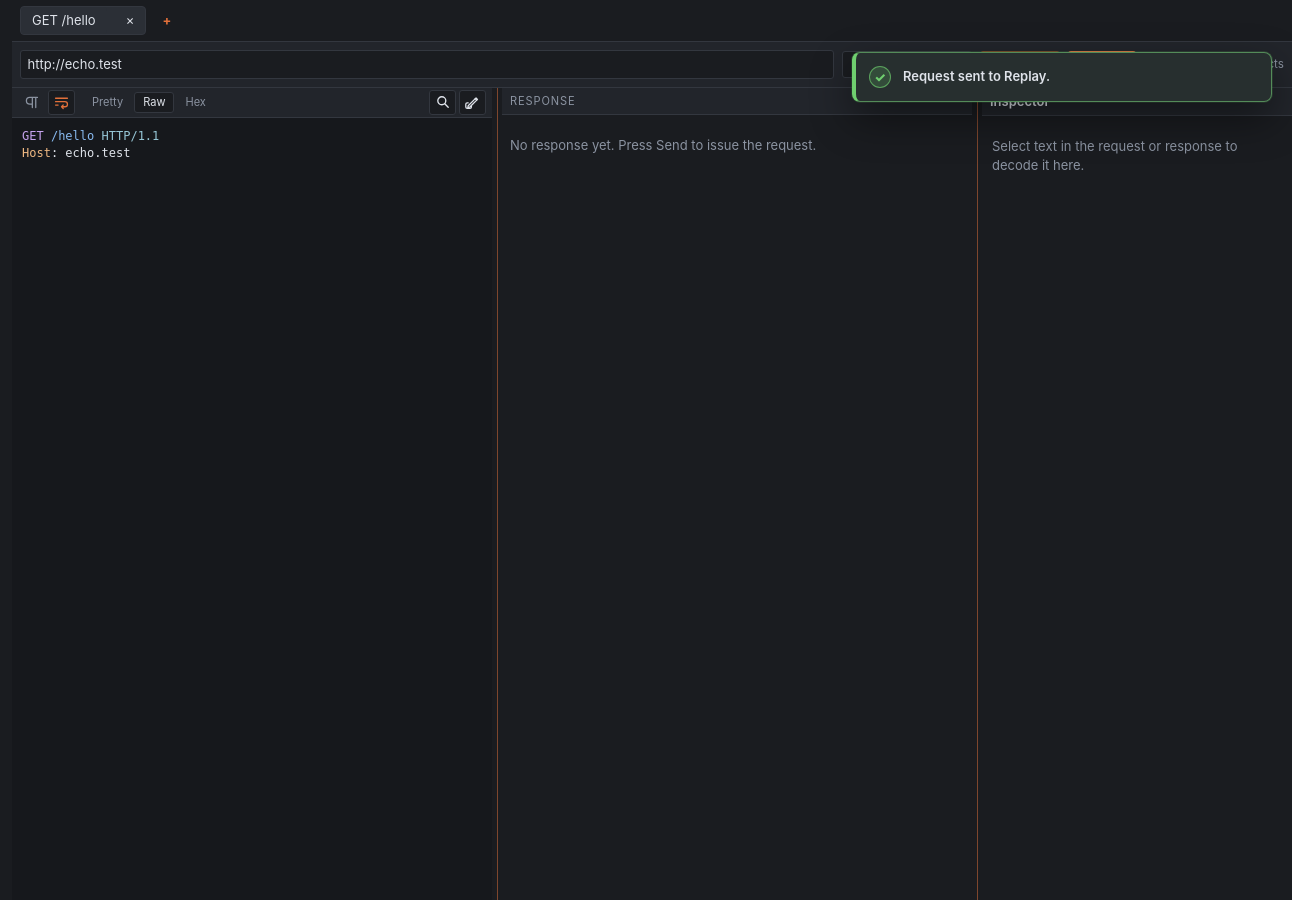
Test case: ReplayTab › stops automatic following on a redirect loop
The image size is (1292, 900).
Expected: the text box named "request" is shown, [12, 118, 492, 899]
Click the button "Send": [1102, 65] box [1068, 50, 1136, 79]
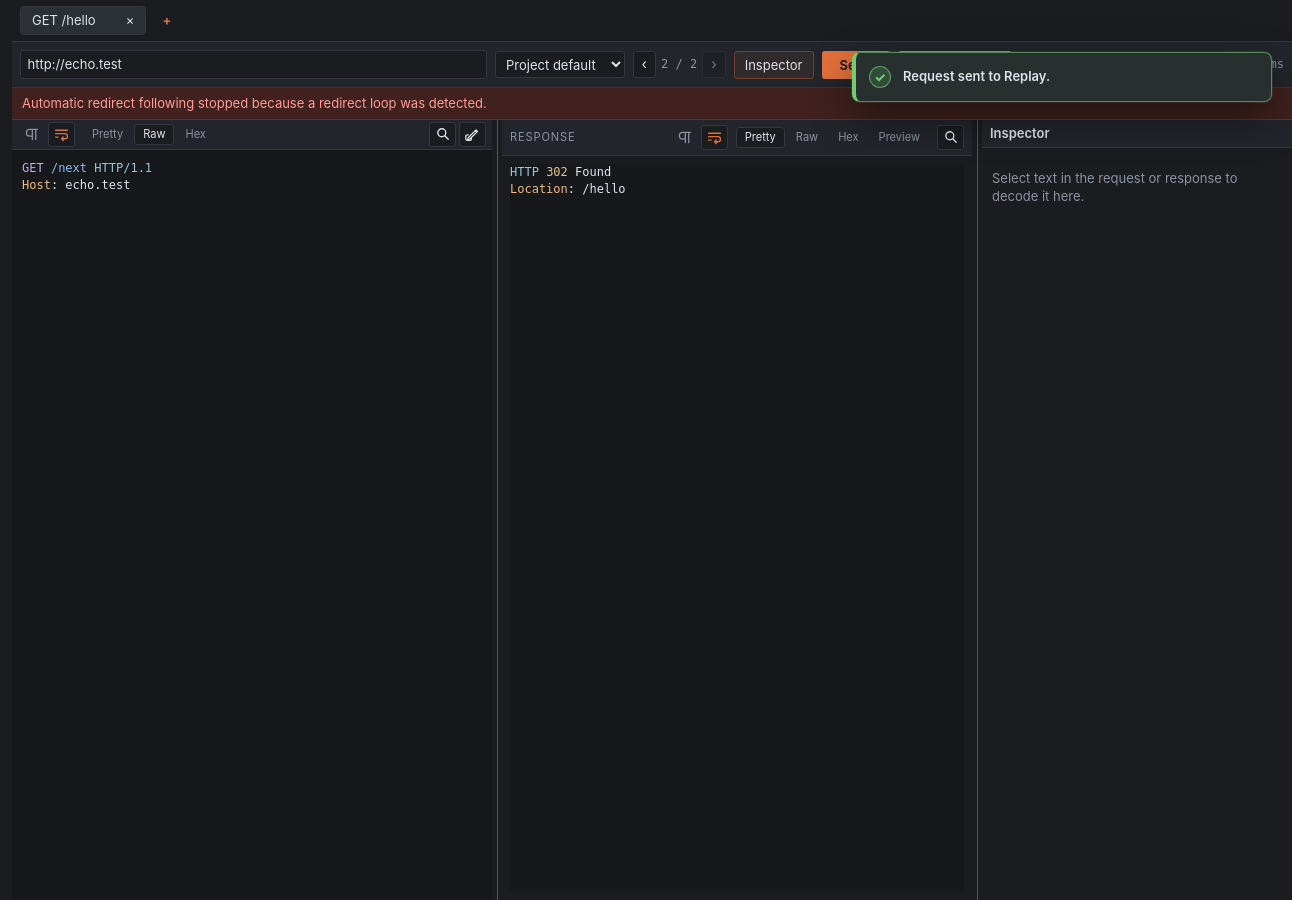
Now the text "Automatic redirect following stopped because a redirect loop was detected." is shown, box [12, 88, 1291, 120]
